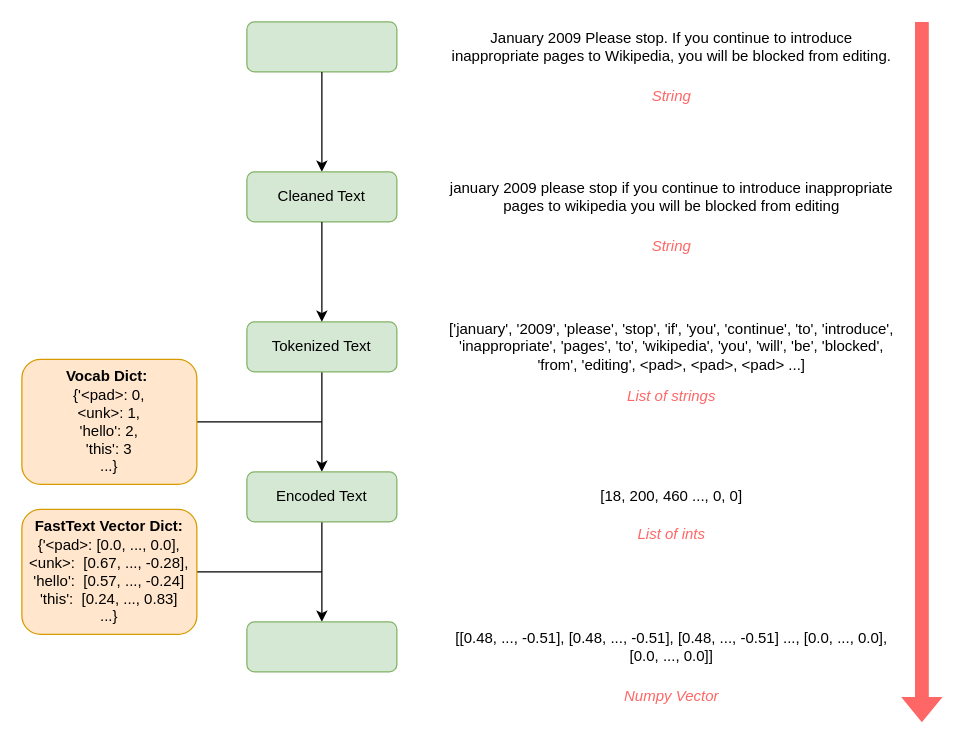
Image size: 964x744. Some labels were removed from this diagram. The shapes that lost their labels are listed below. From the top down, each one's centre as x and y in pixels, then its label:
At (x=321, y=46): "Raw Text".
At (x=321, y=646): "Vectorized Text".
